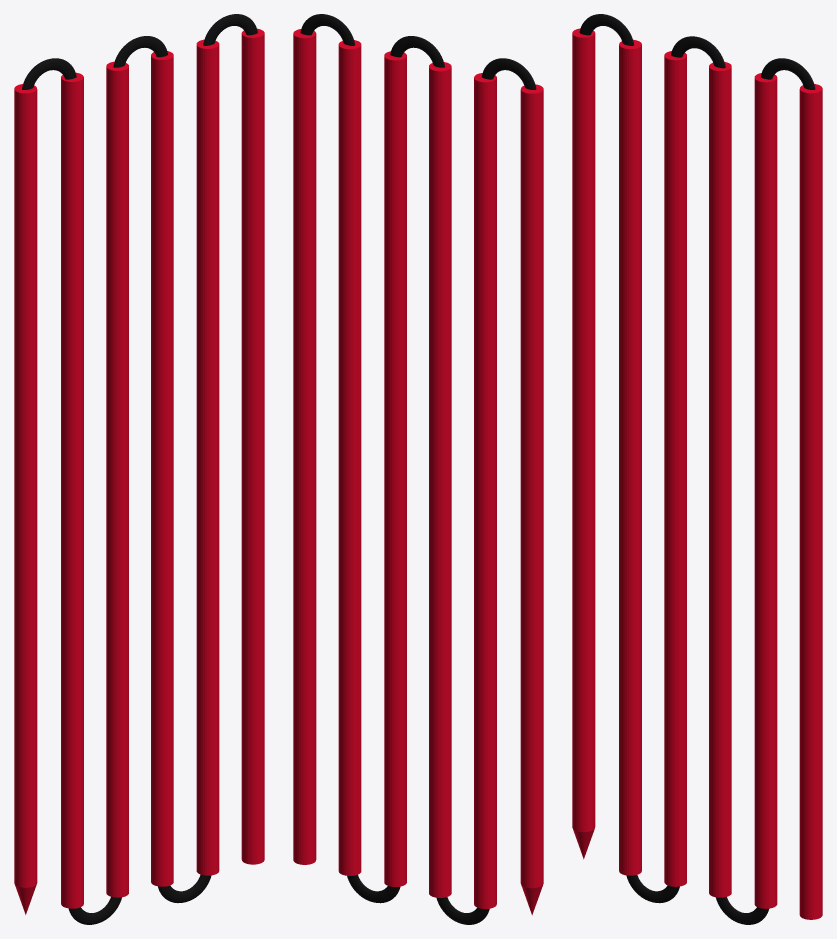
Rendered from Sonda_piegata.fbx.
3 views of the same model, side by side, from view 1: azimuth 30°, elevation 25°; view 2: azimuth 150°, elevation 25°; view 3: azimuth 330°, elevation 25° (orthographic).
Parts seen in each view (by area): view 1: sonda piegata; view 2: sonda piegata; view 3: sonda piegata.
Boxes of the visible parts, left/top/right/bottom form: sonda piegata: left=14, top=14, right=264, bottom=924; sonda piegata: left=293, top=14, right=543, bottom=924; sonda piegata: left=572, top=14, right=822, bottom=924.
Bounding box in the file's own units: 12.52 × 42.41 × 1.
